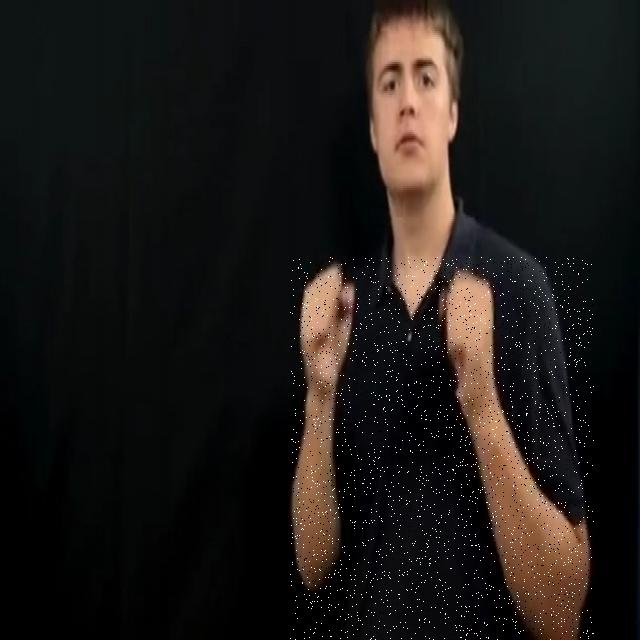cold: (290, 257, 594, 640)
